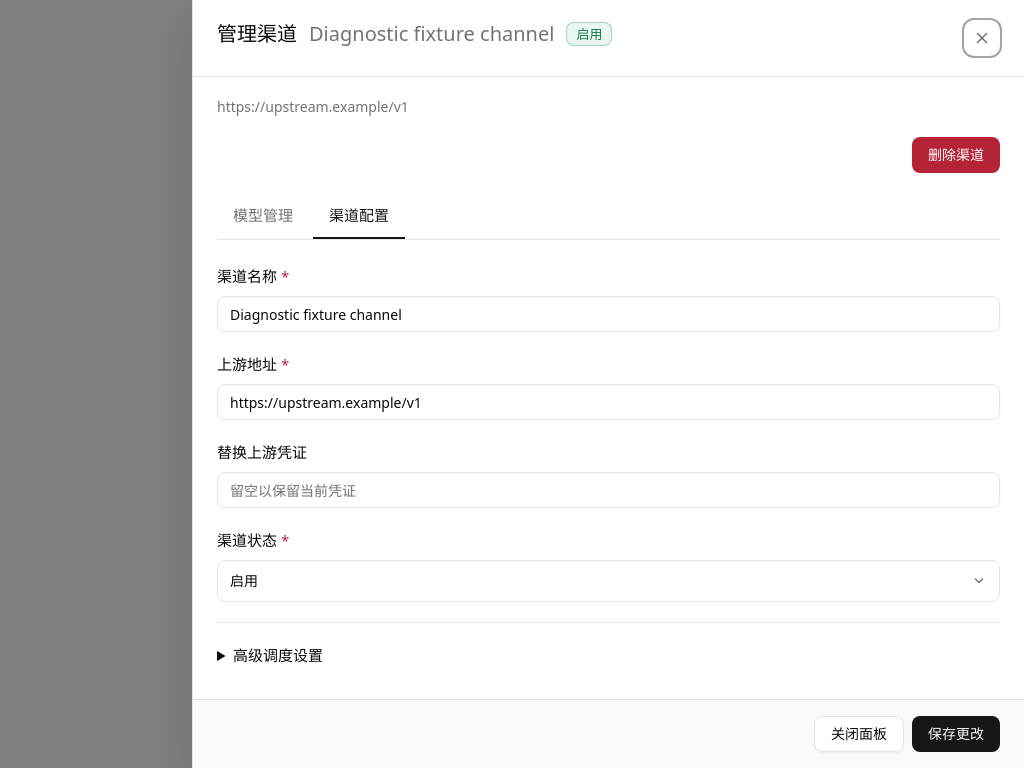
Test: saves settings with the refreshed version after mapping deletion without losing an unsaved draft
Replace the text in the field labelled "渠道名称" with "Unsaved channel name" at (608, 314), box [217,296,1000,332]
Type "unsaved-test-credential" into the password field labelled "替换上游凭证" at (608, 490), box [217,472,1000,508]
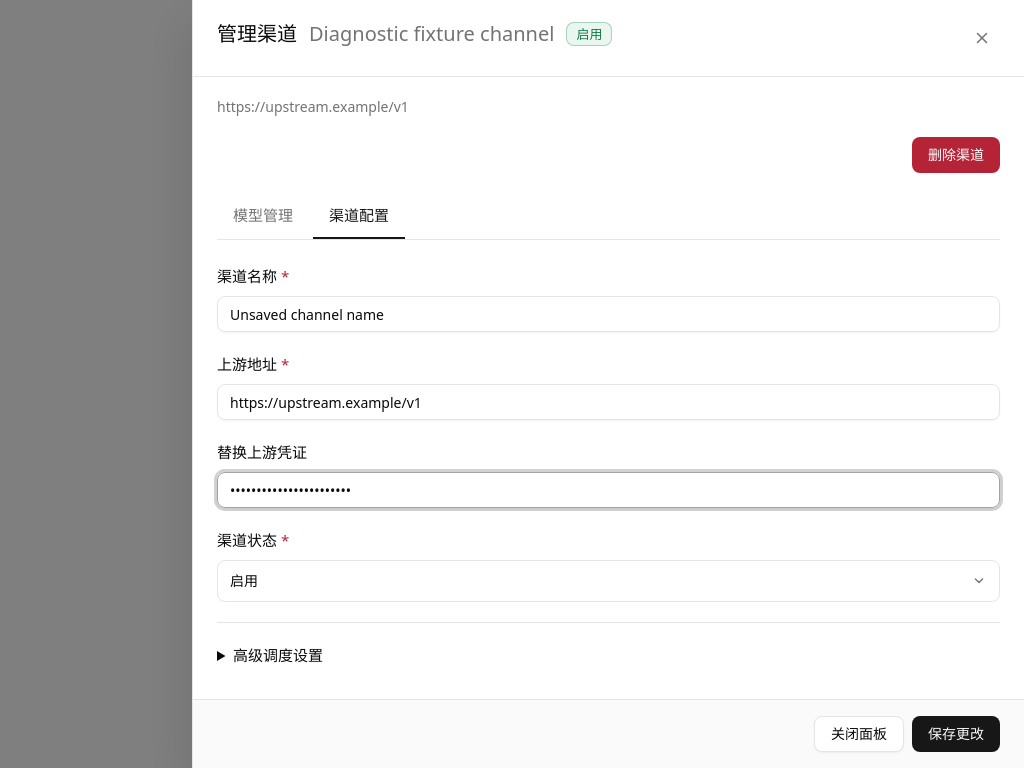
Click the tab "模型管理" at (263, 216), box [217,193,309,239]
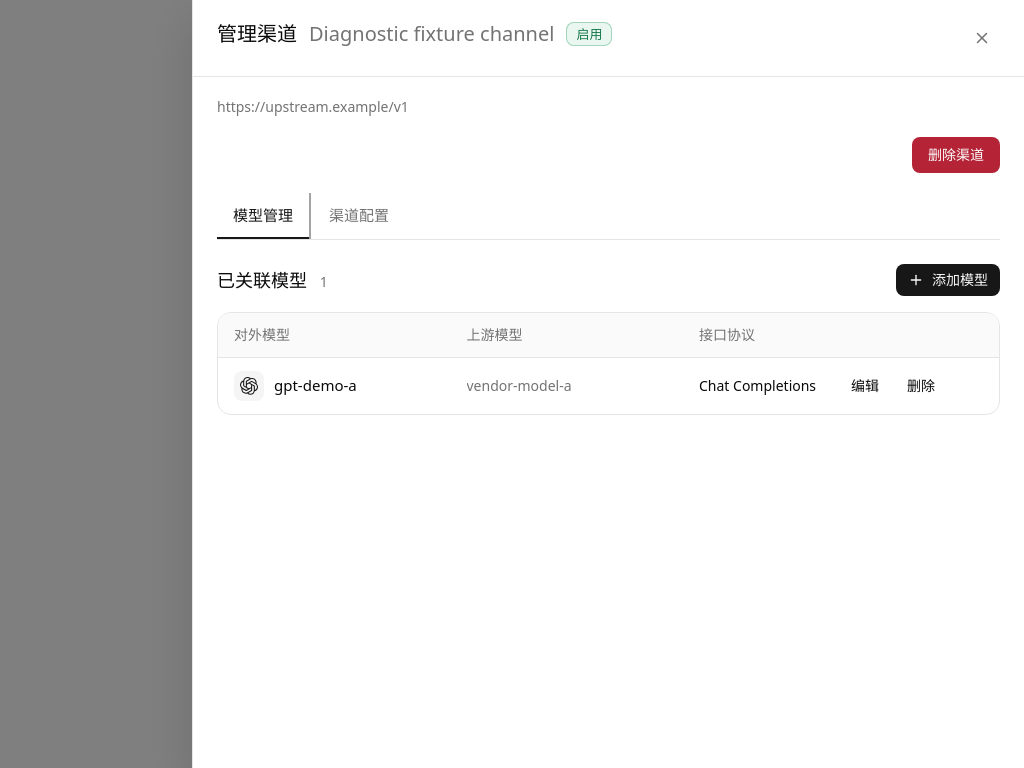
Click the button "删除" at (921, 386), box [895,370,947,402]
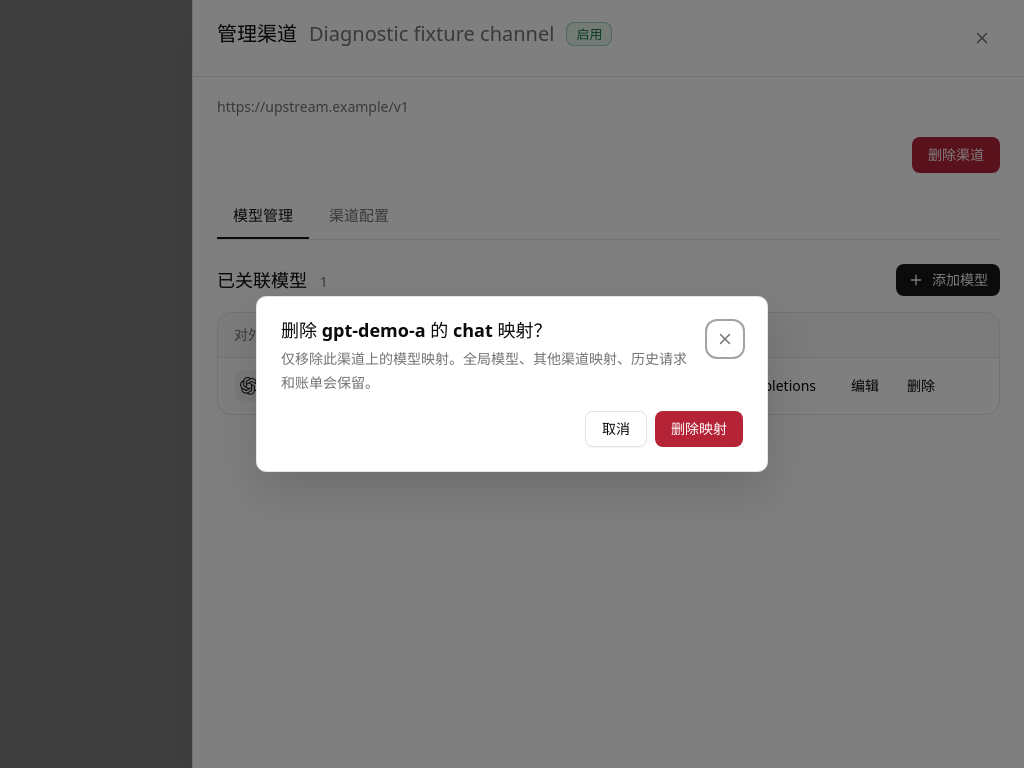
Click the button "删除映射" at (699, 429), box [655,411,743,447]
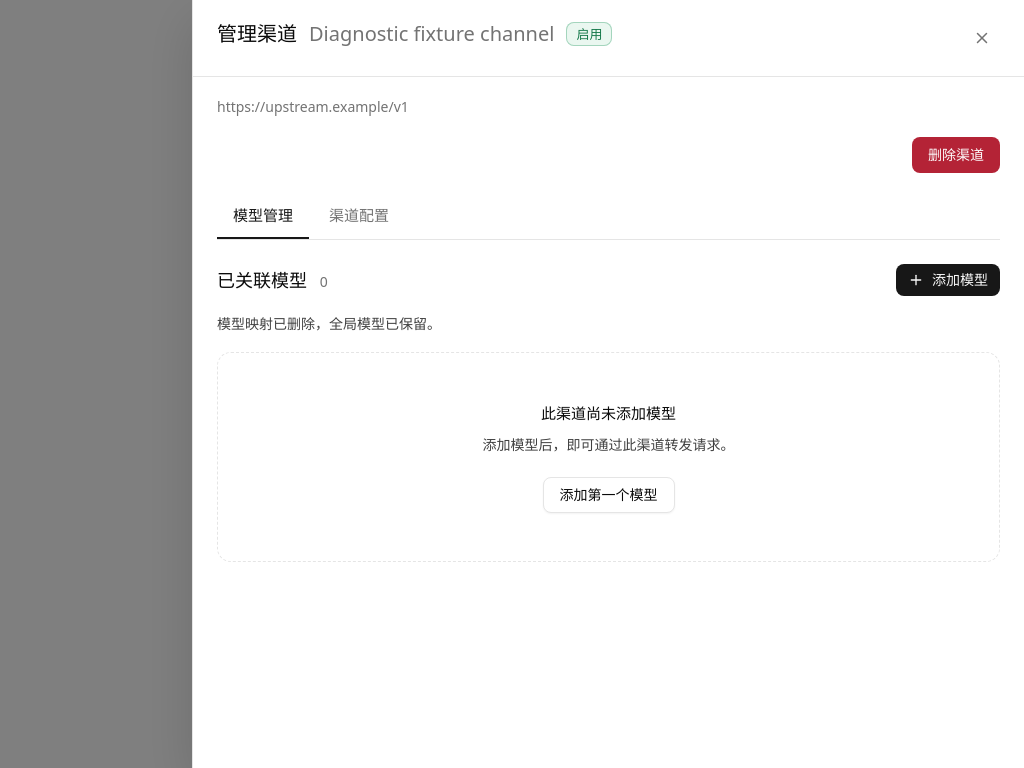
expect the text "模型映射已删除，全局模型已保留。" is shown: met, box [217,314,441,333]
Click the tab "渠道配置" at (359, 216), box [313,193,405,239]
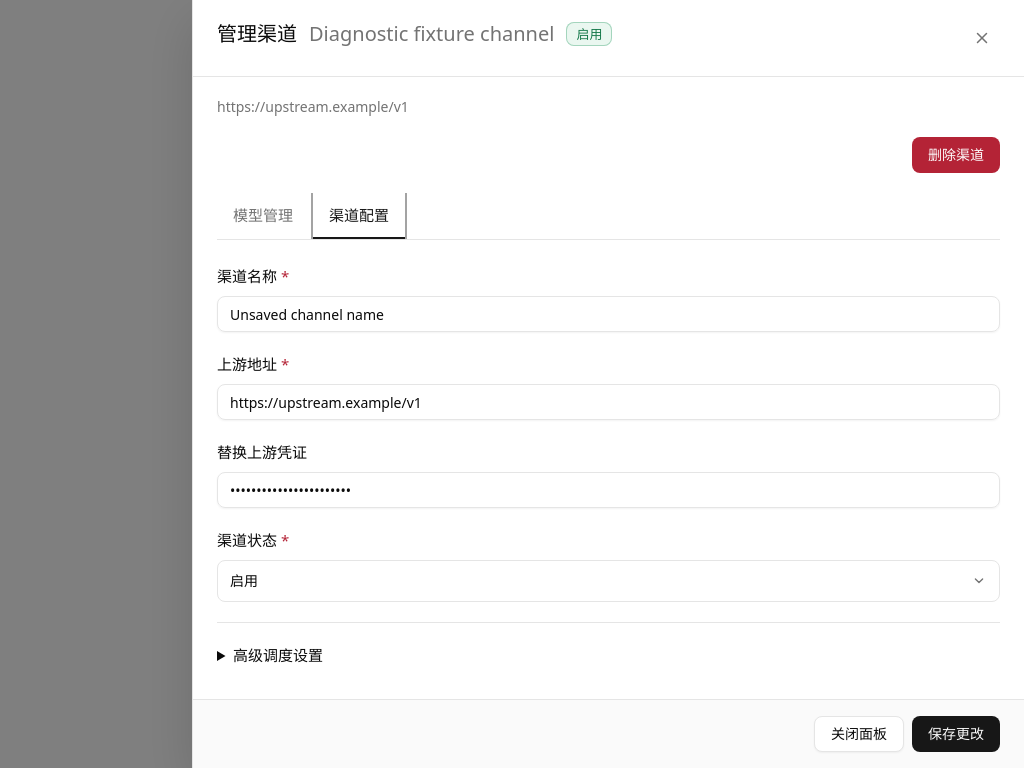
Click the button "保存更改" at (956, 734), box [912,716,1000,752]
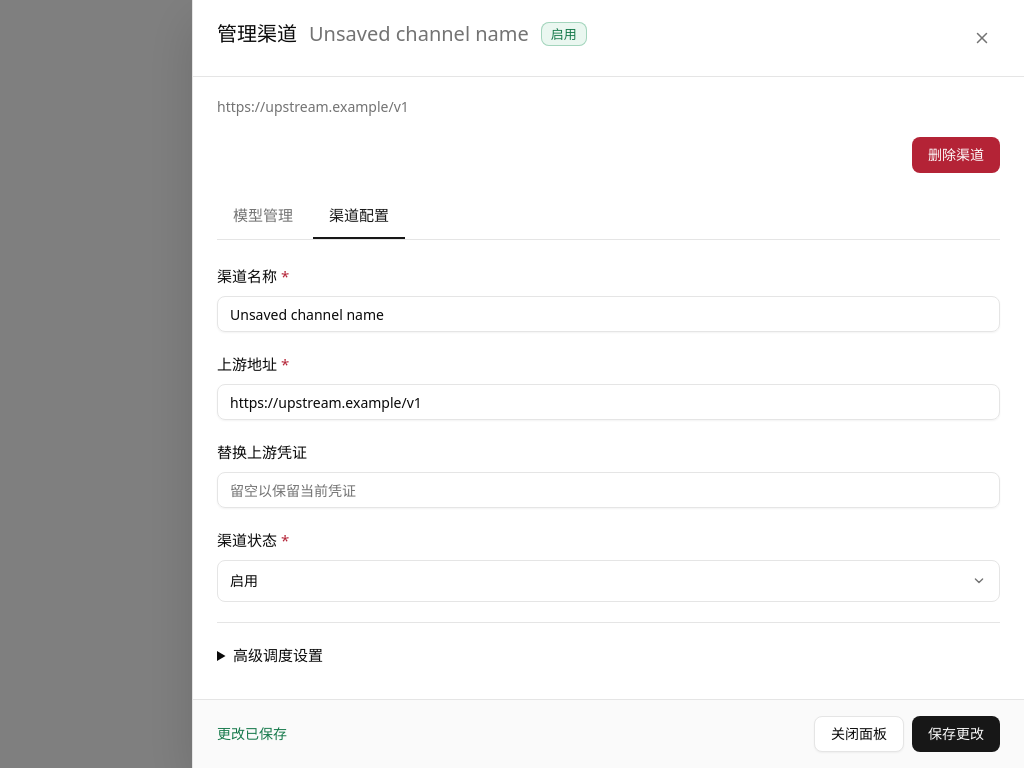
expect the text "更改已保存" is shown: met, box [217,724,287,744]
expect the password field labelled "替换上游凭证" is empty: met, box [217,472,1000,508]
